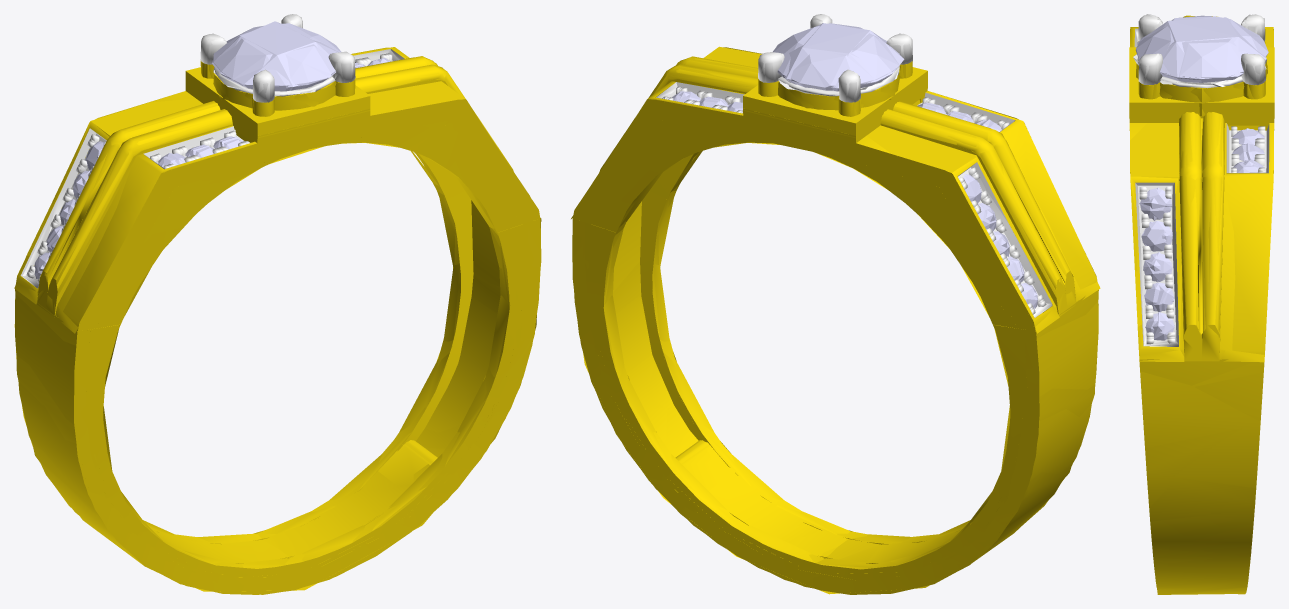
The model's file is DGR-D000705743.glb.
3 renders of one model, left to right at view 1: azimuth 30°, elevation 25°; view 2: azimuth 150°, elevation 25°; view 3: azimuth 270°, elevation 25°, orthographic.
Parts seen in each view (by area): view 1: lowPolyMesh, highPolyMesh; view 2: highPolyMesh, lowPolyMesh; view 3: highPolyMesh, lowPolyMesh.
Boxes of the visible parts, bbox=[...] form: lowPolyMesh: bbox=[14, 14, 541, 594]; highPolyMesh: bbox=[15, 14, 541, 594]; highPolyMesh: bbox=[572, 14, 1098, 594]; lowPolyMesh: bbox=[571, 15, 1100, 594]; highPolyMesh: bbox=[1130, 14, 1274, 594]; lowPolyMesh: bbox=[1129, 14, 1274, 594].
Size of the model in its own units: 0.0227 by 0.025 by 0.00606.
